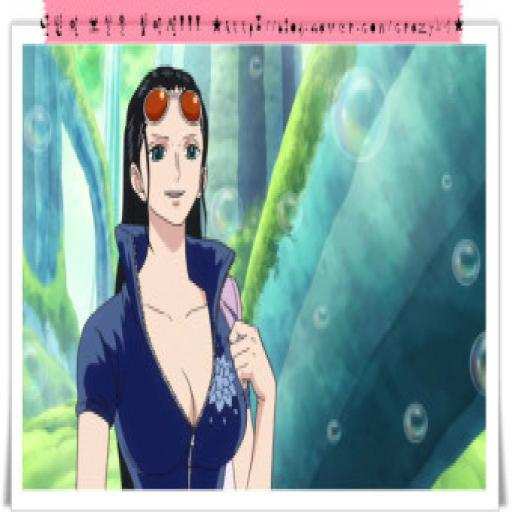NicoRobin: (119, 62, 218, 240)
